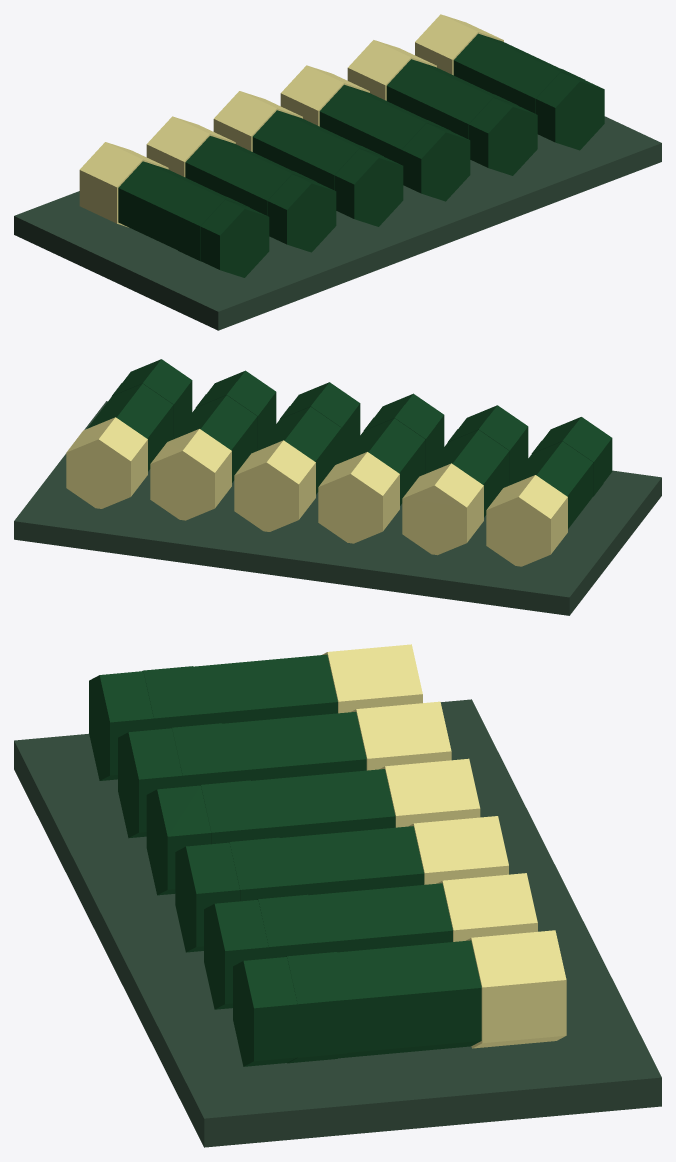
The model's file is ce_ammo_shotgun_slug_b.obj.
3 views of the same model, one above another, from view 1: azimuth 30°, elevation 25°; view 2: azimuth 150°, elevation 25°; view 3: azimuth 270°, elevation 25° (orthographic). The views are drawn at different scales.
Parts seen in each view (by area): view 1: ce_ammo_shotgun_slug_b_0, ce_ammo_shotgun_slug_b_2, ce_ammo_shotgun_slug_b_4, ce_ammo_shotgun_slug_b_16, ce_ammo_shotgun_slug_b_12, ce_ammo_shotgun_slug_b_8, ce_ammo_shotgun_slug_b_24, ce_ammo_shotgun_slug_b_20, ce_ammo_shotgun_slug_b_18, ce_ammo_shotgun_slug_b_14, ce_ammo_shotgun_slug_b_22, ce_ammo_shotgun_slug_b_6 (+13 smaller); view 2: ce_ammo_shotgun_slug_b_0, ce_ammo_shotgun_slug_b_5, ce_ammo_shotgun_slug_b_1, ce_ammo_shotgun_slug_b_13, ce_ammo_shotgun_slug_b_17, ce_ammo_shotgun_slug_b_21, ce_ammo_shotgun_slug_b_9, ce_ammo_shotgun_slug_b_2, ce_ammo_shotgun_slug_b_18, ce_ammo_shotgun_slug_b_14, ce_ammo_shotgun_slug_b_6, ce_ammo_shotgun_slug_b_10 (+13 smaller); view 3: ce_ammo_shotgun_slug_b_0, ce_ammo_shotgun_slug_b_22, ce_ammo_shotgun_slug_b_21, ce_ammo_shotgun_slug_b_6, ce_ammo_shotgun_slug_b_14, ce_ammo_shotgun_slug_b_10, ce_ammo_shotgun_slug_b_18, ce_ammo_shotgun_slug_b_2, ce_ammo_shotgun_slug_b_24, ce_ammo_shotgun_slug_b_23, ce_ammo_shotgun_slug_b_5, ce_ammo_shotgun_slug_b_13 (+13 smaller).
Boxes of the visible parts, x1,y1,x2,y2 form: ce_ammo_shotgun_slug_b_0: (14, 116, 661, 330); ce_ammo_shotgun_slug_b_2: (118, 161, 223, 250); ce_ammo_shotgun_slug_b_4: (200, 200, 269, 277); ce_ammo_shotgun_slug_b_16: (401, 123, 470, 201); ce_ammo_shotgun_slug_b_12: (334, 149, 403, 226); ce_ammo_shotgun_slug_b_8: (267, 174, 336, 252); ce_ammo_shotgun_slug_b_24: (536, 72, 604, 150); ce_ammo_shotgun_slug_b_20: (469, 98, 537, 175); ce_ammo_shotgun_slug_b_18: (386, 59, 491, 128); ce_ammo_shotgun_slug_b_14: (319, 84, 424, 153); ce_ammo_shotgun_slug_b_22: (453, 33, 558, 102); ce_ammo_shotgun_slug_b_6: (185, 136, 289, 204); ce_ammo_shotgun_slug_b_0: (14, 401, 661, 615); ce_ammo_shotgun_slug_b_5: (402, 463, 483, 555); ce_ammo_shotgun_slug_b_1: (486, 475, 567, 566); ce_ammo_shotgun_slug_b_13: (234, 440, 315, 531); ce_ammo_shotgun_slug_b_17: (150, 429, 231, 520); ce_ammo_shotgun_slug_b_21: (66, 417, 147, 508); ce_ammo_shotgun_slug_b_9: (318, 452, 399, 543); ce_ammo_shotgun_slug_b_2: (507, 441, 593, 528); ce_ammo_shotgun_slug_b_18: (171, 395, 257, 482); ce_ammo_shotgun_slug_b_14: (255, 406, 341, 494); ce_ammo_shotgun_slug_b_6: (423, 430, 509, 517); ce_ammo_shotgun_slug_b_10: (339, 418, 425, 505); ce_ammo_shotgun_slug_b_0: (14, 699, 661, 1147); ce_ammo_shotgun_slug_b_22: (337, 940, 481, 1058); ce_ammo_shotgun_slug_b_21: (465, 930, 566, 1048); ce_ammo_shotgun_slug_b_6: (222, 711, 366, 781); ce_ammo_shotgun_slug_b_14: (279, 826, 424, 896); ce_ammo_shotgun_slug_b_10: (251, 769, 395, 838); ce_ammo_shotgun_slug_b_18: (308, 883, 452, 953); ce_ammo_shotgun_slug_b_2: (193, 654, 337, 724); ce_ammo_shotgun_slug_b_24: (233, 957, 297, 1066); ce_ammo_shotgun_slug_b_23: (286, 952, 347, 1063); ce_ammo_shotgun_slug_b_5: (351, 701, 451, 770); ce_ammo_shotgun_slug_b_13: (408, 816, 508, 884).
Size of the model in its own units: 0.9326 by 0.1427 by 0.6092.
